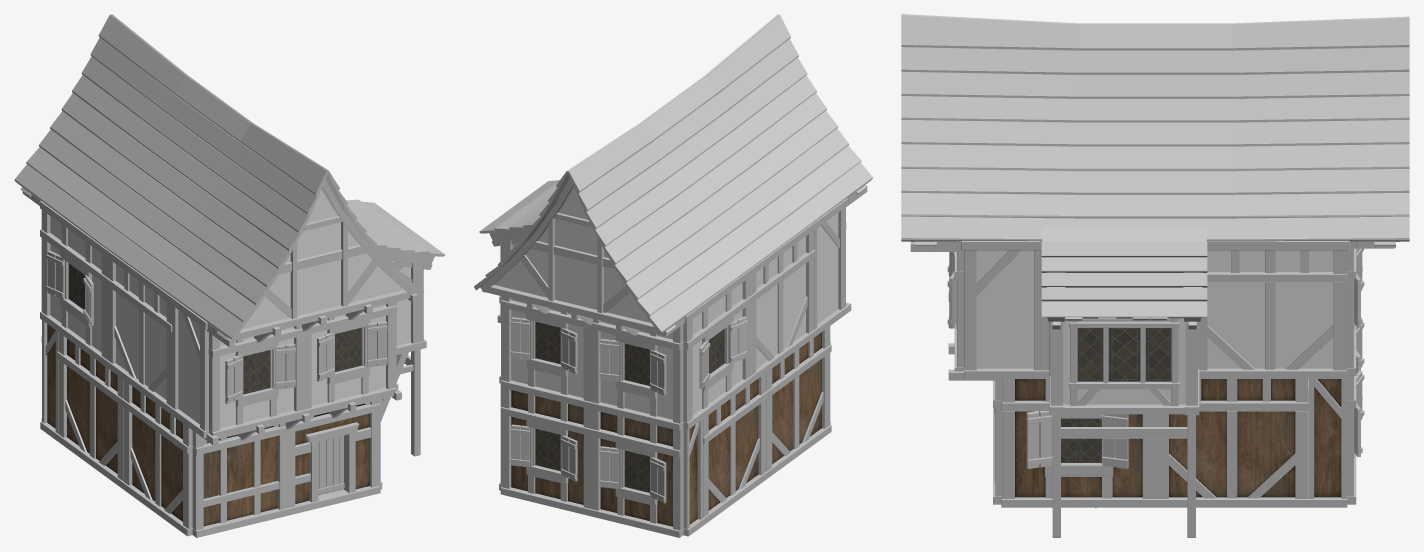
Rendered from House_1A14.fbx.
3 renders of one model, left to right at view 1: azimuth 30°, elevation 25°; view 2: azimuth 150°, elevation 25°; view 3: azimuth 270°, elevation 25°, orthographic. The views are drawn at different scales.
Visible parts, largest first — view 1: House_1A14, Cube.2356, Plane.404, Plane.405, Plane.403; view 2: House_1A14, Plane.327, Plane.326, Plane.328, Plane.329, Plane.403; view 3: House_1A14, Plane.358, Plane.359.
Boxes of the visible parts, x1,y1,x2,y2 form: House_1A14: [14, 14, 445, 537]; Cube.2356: [318, 435, 344, 495]; Plane.404: [243, 350, 269, 394]; Plane.405: [335, 327, 361, 371]; Plane.403: [68, 263, 84, 309]; House_1A14: [474, 14, 872, 537]; Plane.327: [535, 428, 560, 471]; Plane.326: [624, 450, 649, 492]; Plane.328: [624, 343, 649, 385]; Plane.329: [535, 321, 560, 364]; Plane.403: [709, 329, 724, 373]; House_1A14: [901, 14, 1409, 537]; Plane.358: [1077, 328, 1171, 381]; Plane.359: [1061, 418, 1101, 462].
Size of the model in its own units: 1091 by 1406 by 1461.
